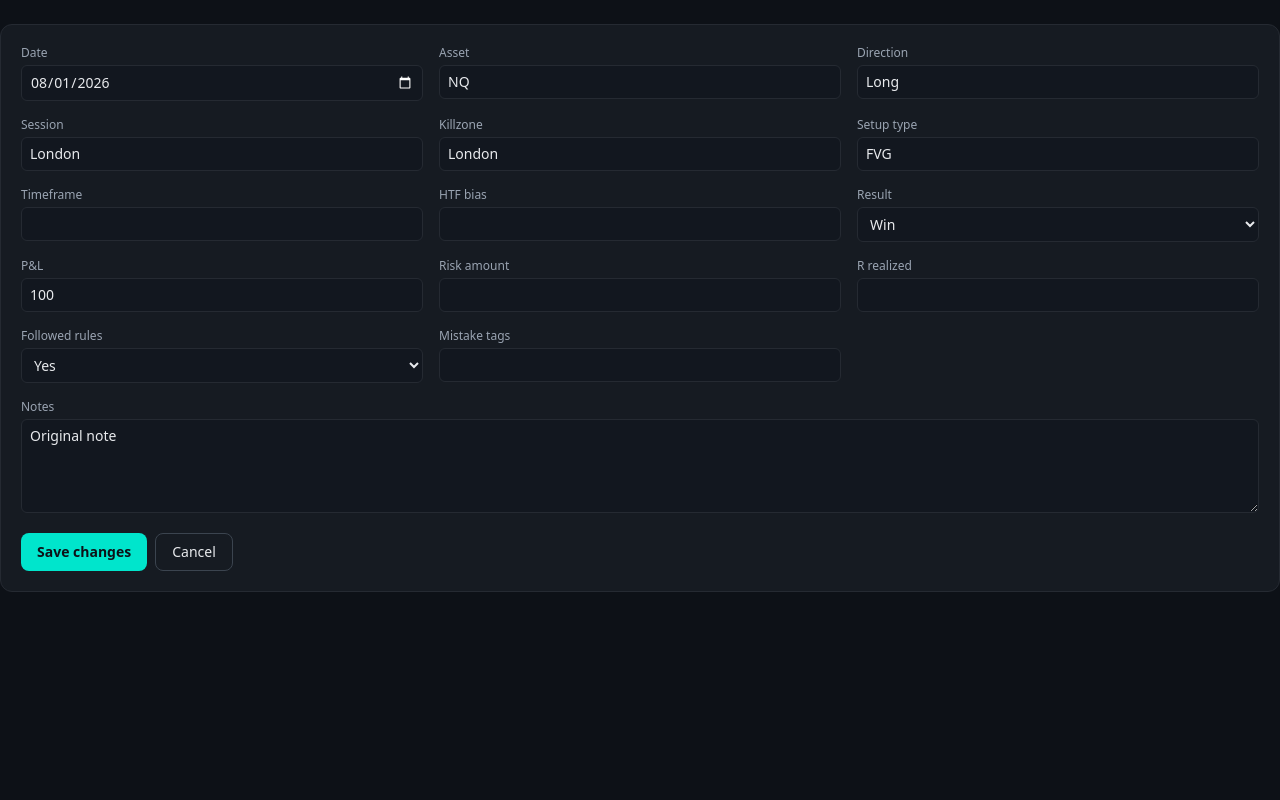
Test case: EditTradeForm › other failures › reports a generic save failure without claiming anything changed
This screenshot has width=1280, height=800.
What coordinates should you click on to do the following:
click the button "Save changes"
I would click on:
 (84, 552)
Its box is [21,533,147,571].
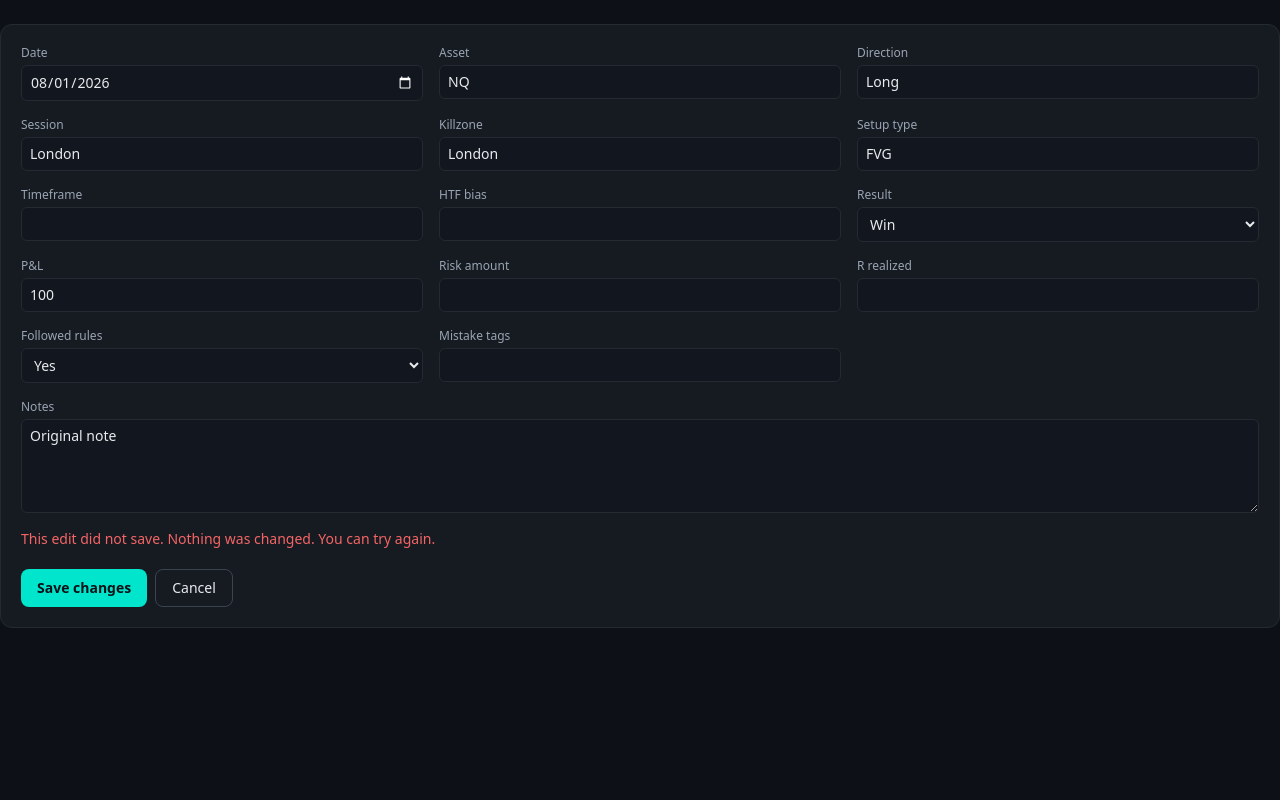
Now the message shows "Nothing was changed", box [21,529,435,548]
